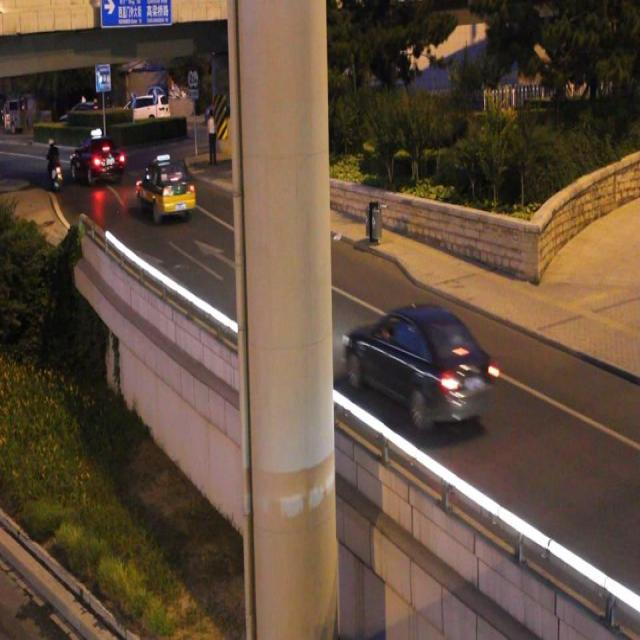car: (346, 304, 489, 420), (137, 160, 195, 217), (72, 140, 124, 181)
